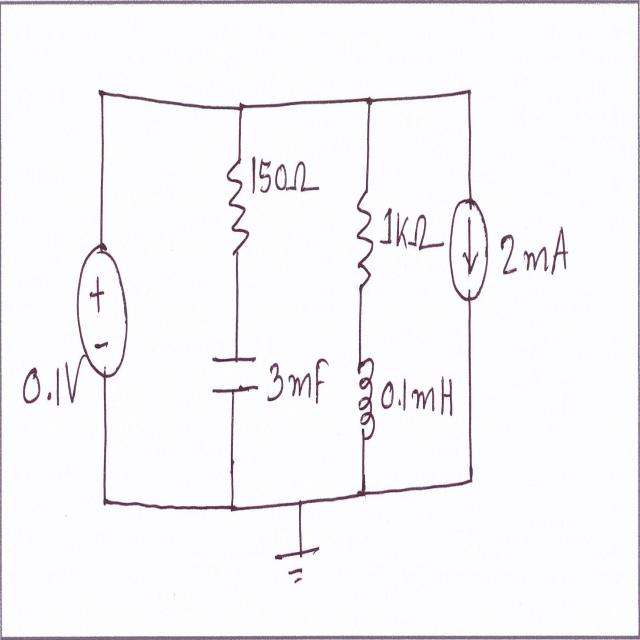capacitor: (211, 338, 264, 407)
current_source: (444, 190, 492, 312)
ground: (271, 536, 324, 596)
inductor: (354, 345, 378, 451)
resistor: (224, 150, 250, 269), (352, 178, 377, 297)
voltage_source: (74, 228, 132, 388)
